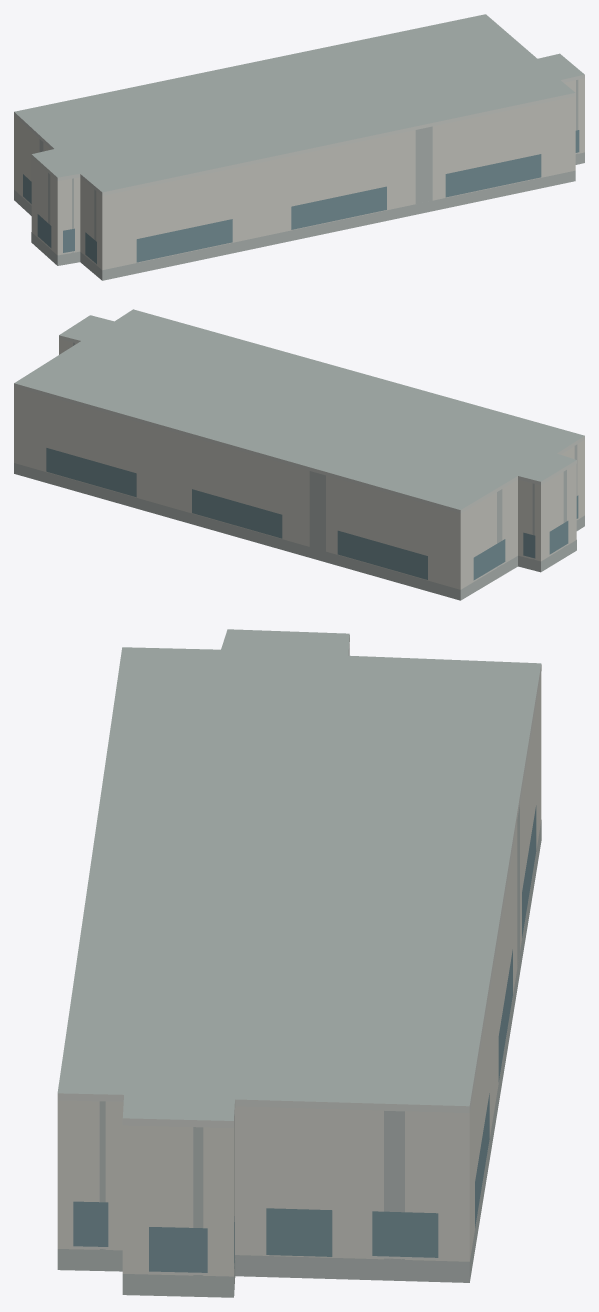
File: survey-upis-32463066.glb
3 views of the same model, one above another, from view 1: azimuth 30°, elevation 25°; view 2: azimuth 150°, elevation 25°; view 3: azimuth 270°, elevation 25° (orthographic). The views are drawn at different scales.
Visible parts, largest first — view 1: survey-upis-32463066.tmp; view 2: survey-upis-32463066.tmp; view 3: survey-upis-32463066.tmp.
Part boxes in pixels (x1,y1,x2,y2): survey-upis-32463066.tmp: (14, 14, 584, 280); survey-upis-32463066.tmp: (14, 309, 584, 600); survey-upis-32463066.tmp: (57, 629, 541, 1297).
Size of the model in its own units: 36.43 by 6.1 by 15.16.
